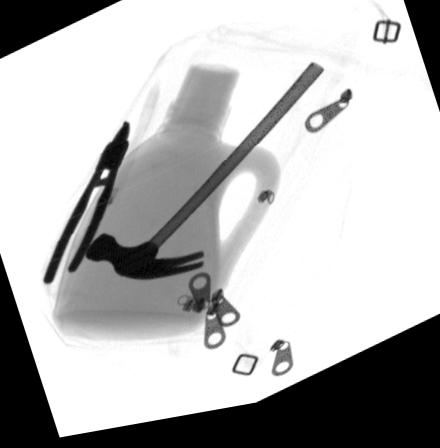Hammer: (85, 74, 322, 284)
Pliers: (41, 124, 129, 286)
